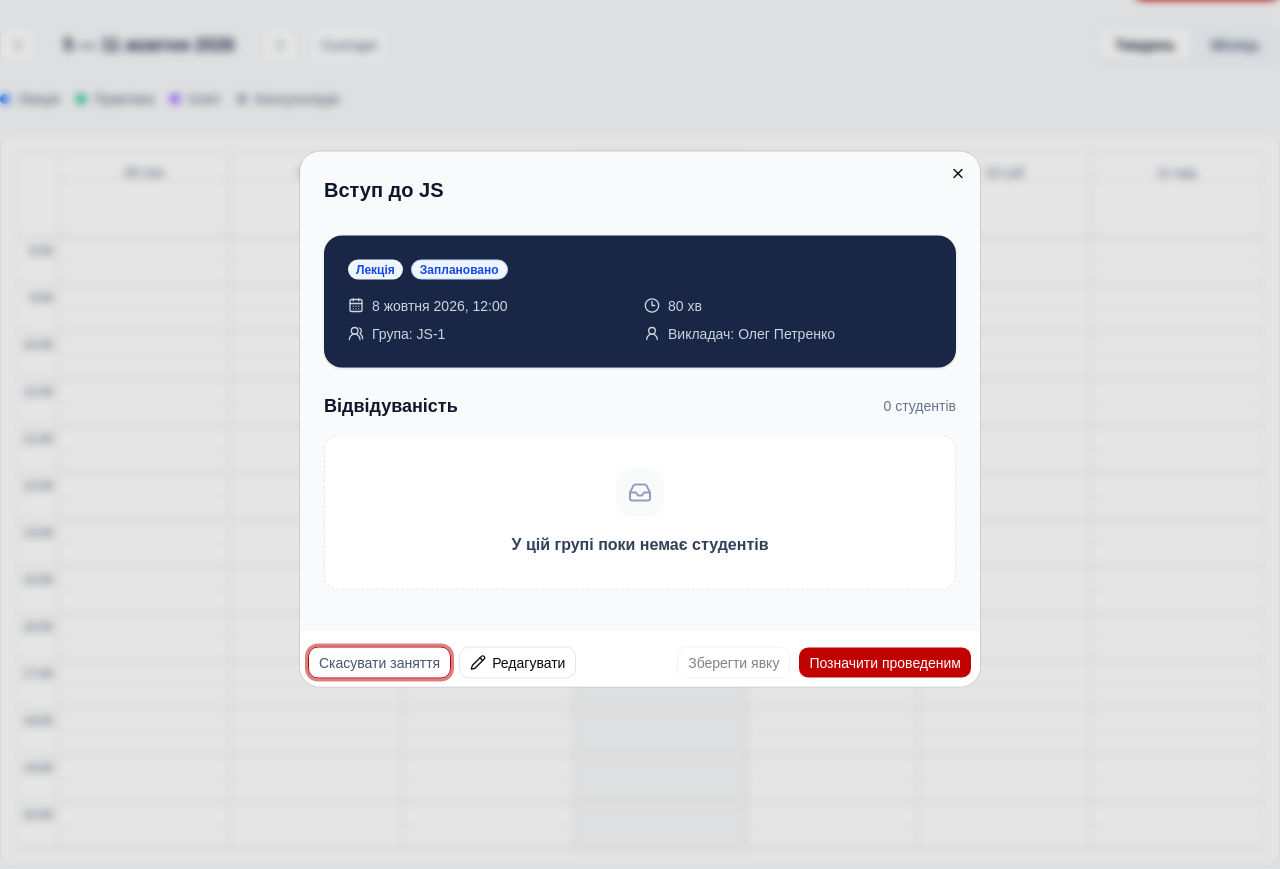
Test: SchedulePage — стан в URL › вид і закриття деталей оновлюють URL
Expected: the dialog "Вступ до JS" is shown, [300, 152, 980, 686]
Step 1. Press Escape
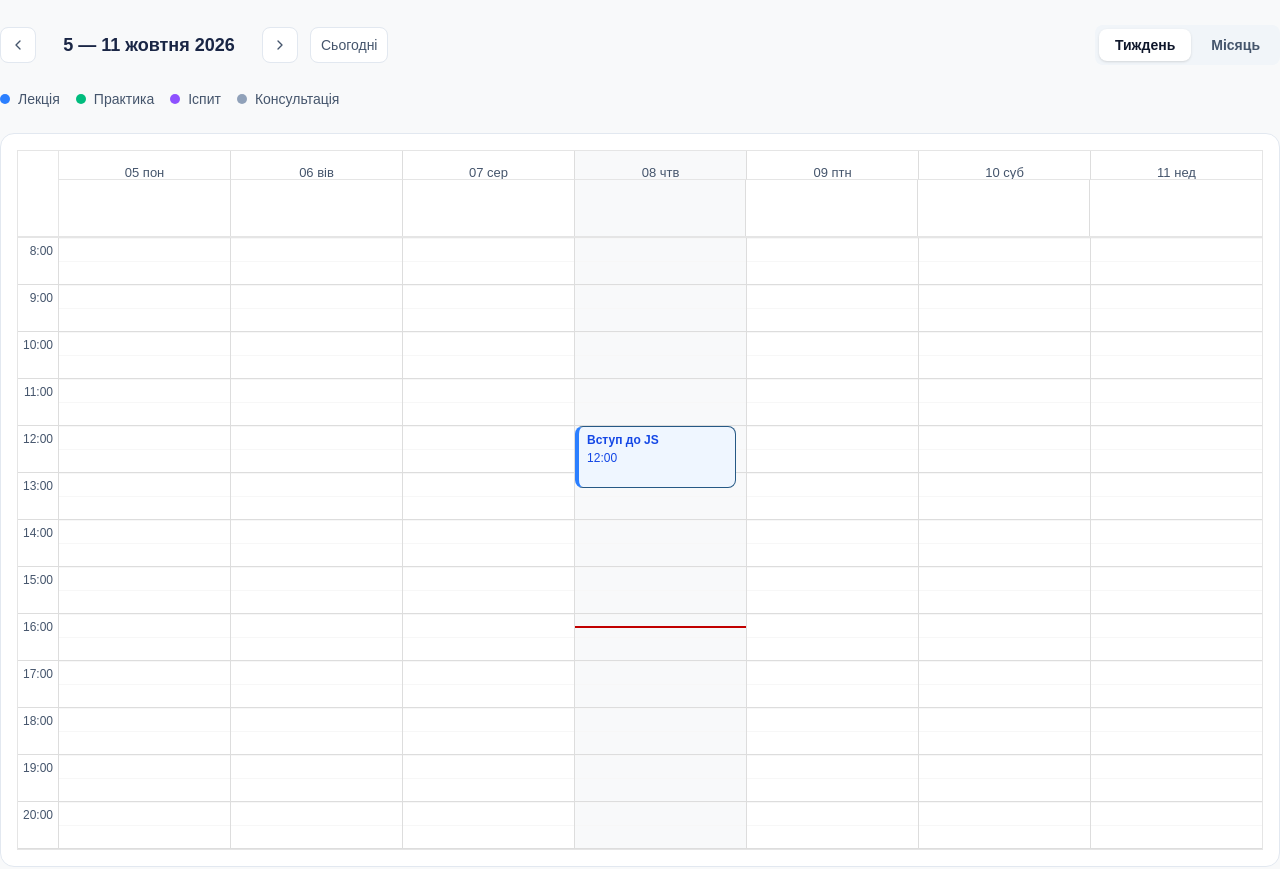
Step 2. Click the button "Місяць" → (1236, 45), box [1195, 29, 1276, 61]
(page scrolled)
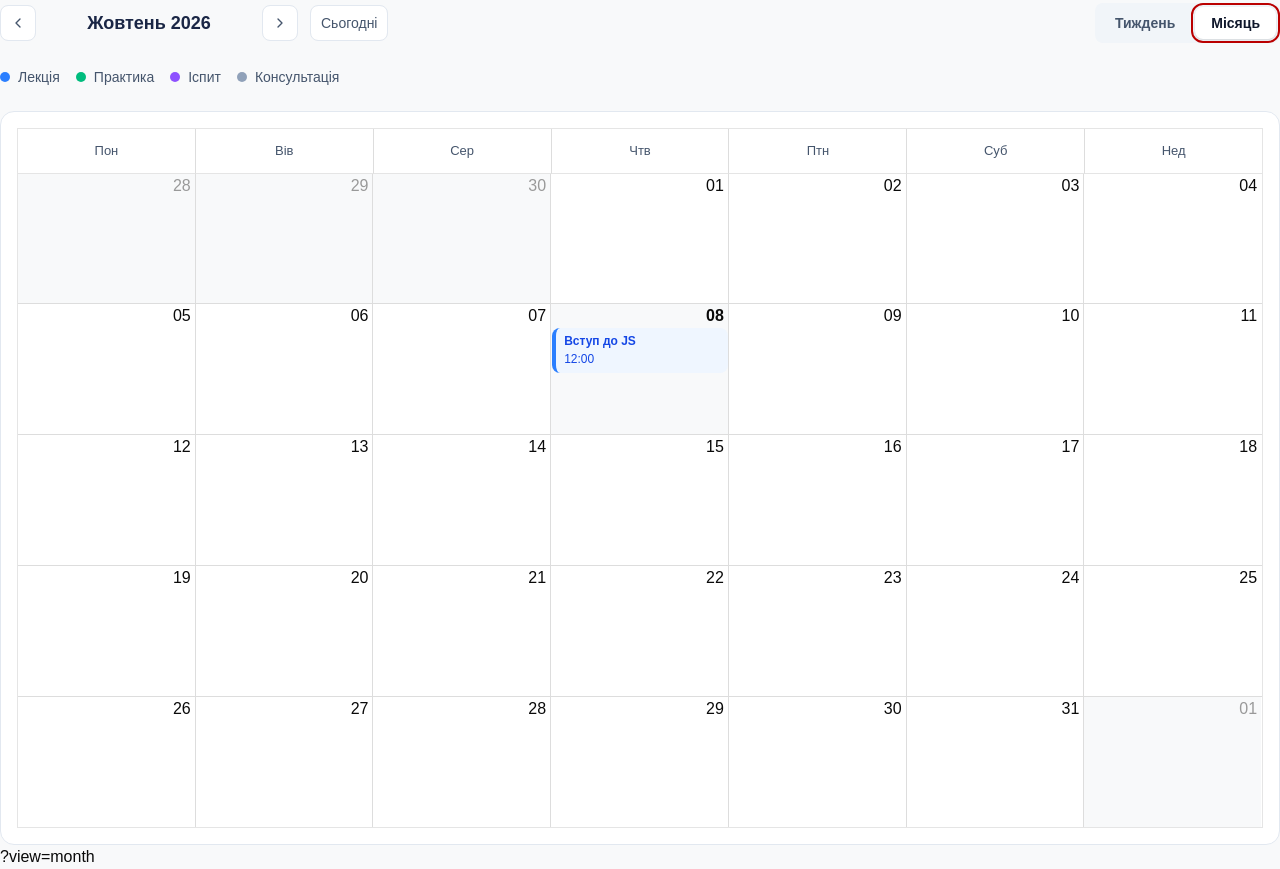
Now the text named "URL" reads "?view=month", box [0, 848, 95, 865]
